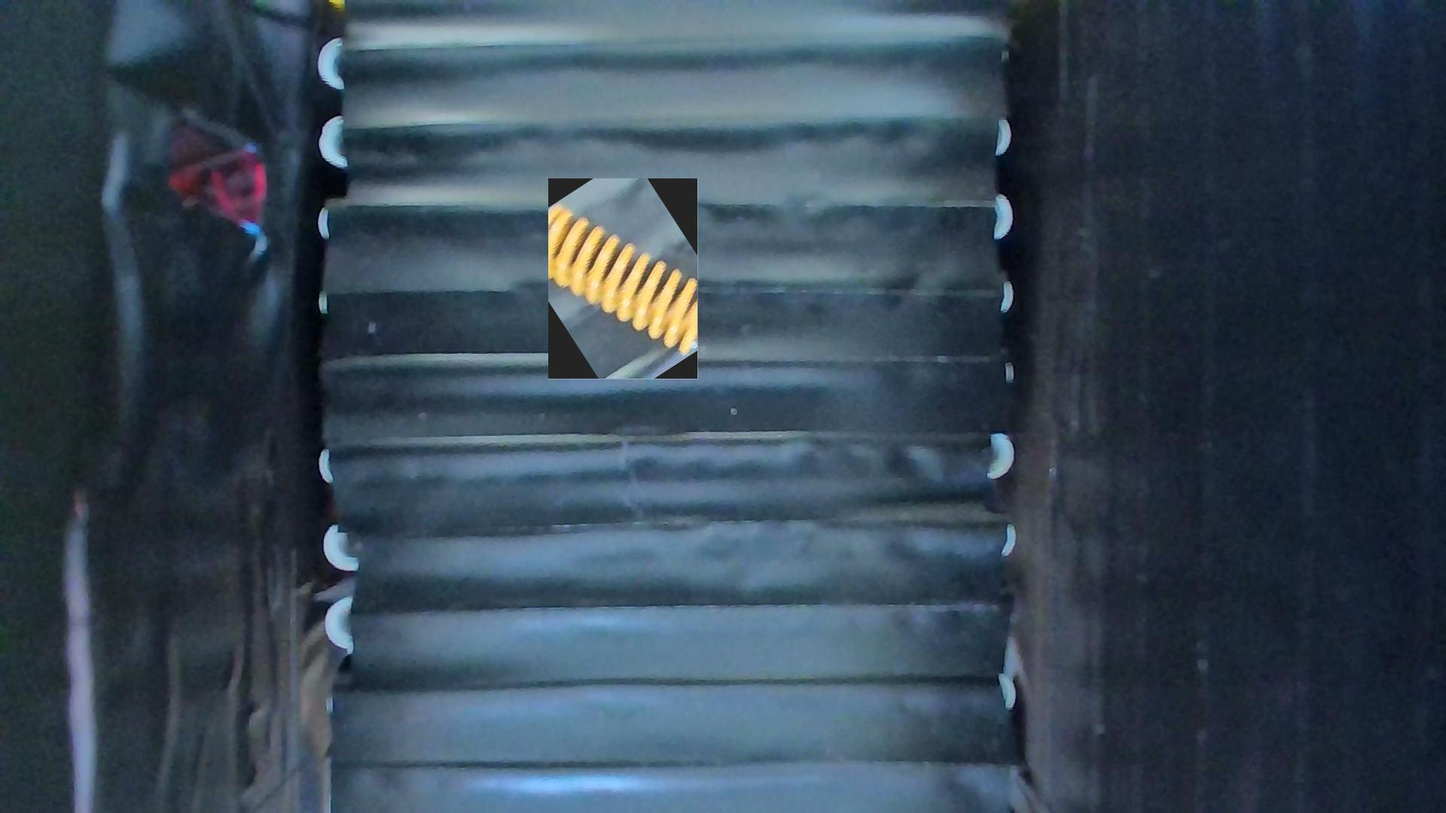spring: (549, 179, 699, 380)
